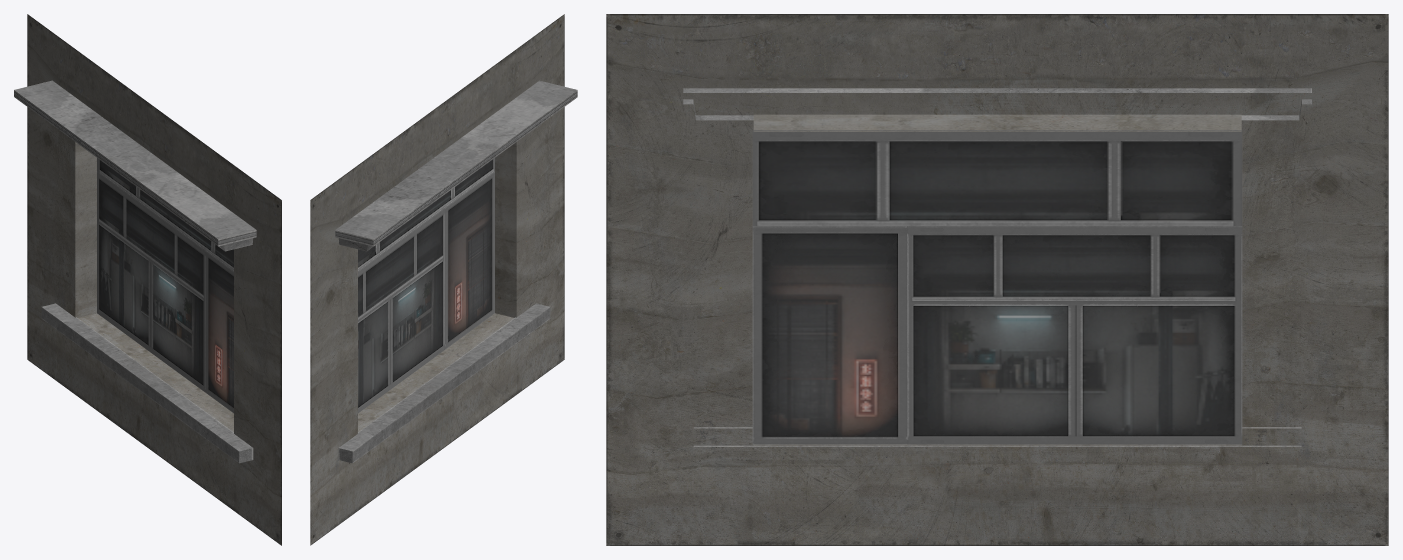
Rendered from CP_Windows_C_4x3m_04.fbx.
3 views of the same model, side by side, from view 1: azimuth 30°, elevation 25°; view 2: azimuth 150°, elevation 25°; view 3: azimuth 270°, elevation 25° (orthographic). The views are drawn at different scales.
Visible parts, largest first — view 1: CP_Windows_C_4x3m_04; view 2: CP_Windows_C_4x3m_04; view 3: CP_Windows_C_4x3m_04.
Part boxes in pixels (<box>): CP_Windows_C_4x3m_04: <box>14,14,281,545</box>; CP_Windows_C_4x3m_04: <box>310,14,577,545</box>; CP_Windows_C_4x3m_04: <box>606,14,1388,545</box>.
Size of the model in its own units: 55.19 by 300 by 400.
